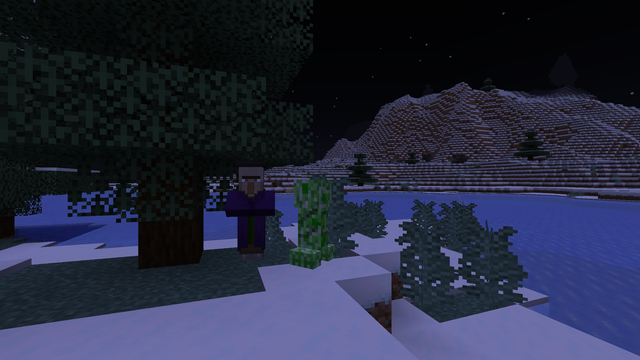creepers: (293, 175, 334, 275)
sorcieres: (236, 162, 268, 263)
